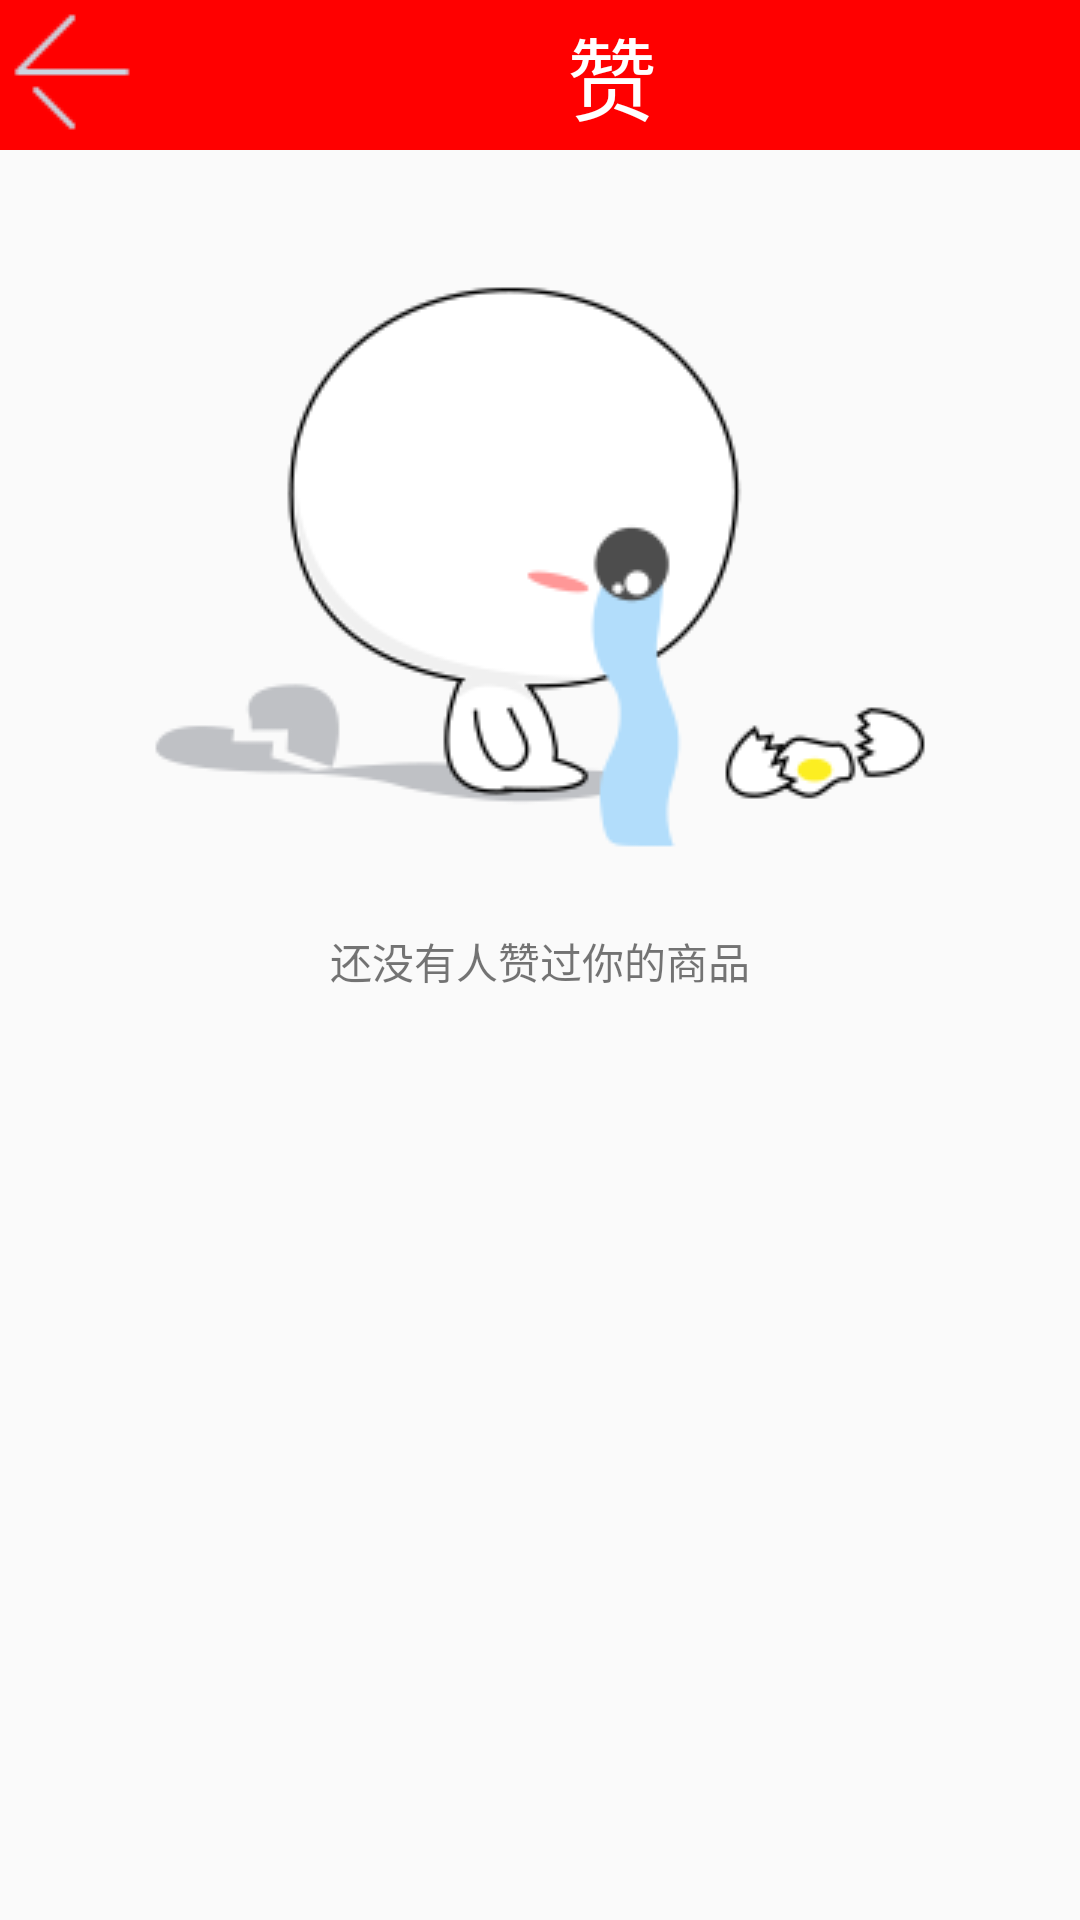

Screen size 1080x1920. Icon name, then its center in pixels as (x,y):
back on: (72,72)
